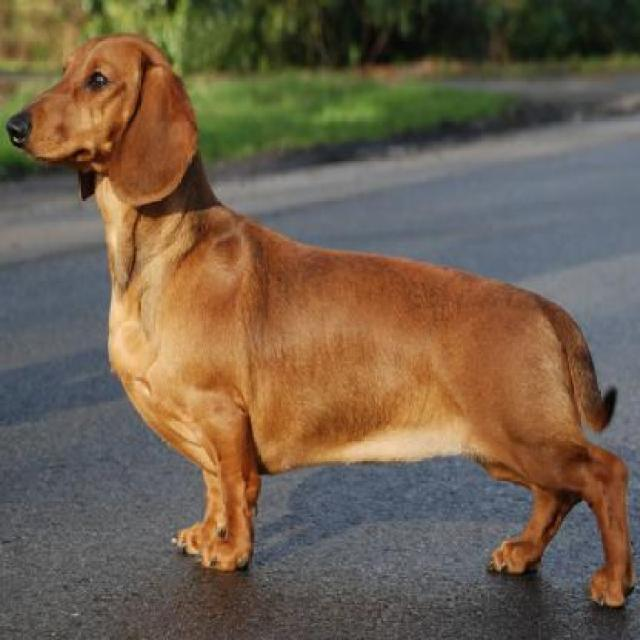Dog: (6, 37, 639, 606)
